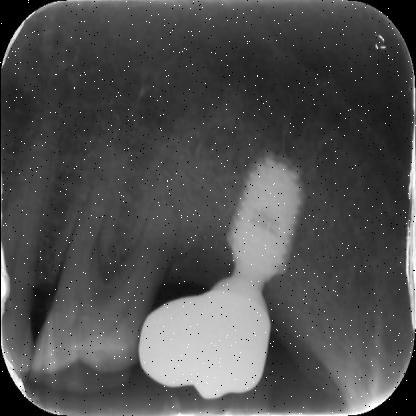Bicon: (216, 153, 314, 287)
